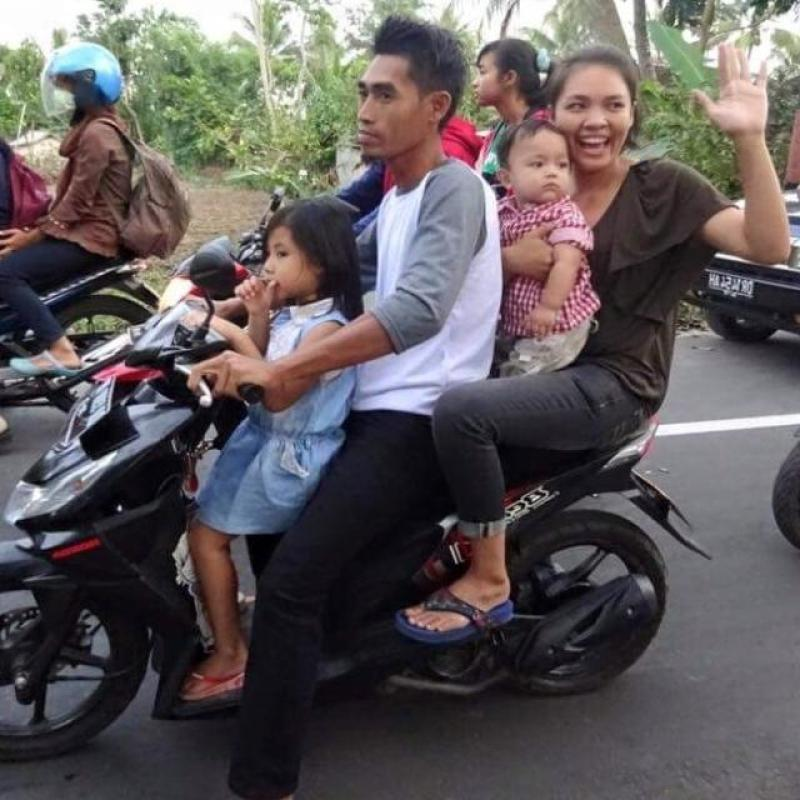nohelmet: (348, 0, 484, 188), (544, 10, 658, 196)
